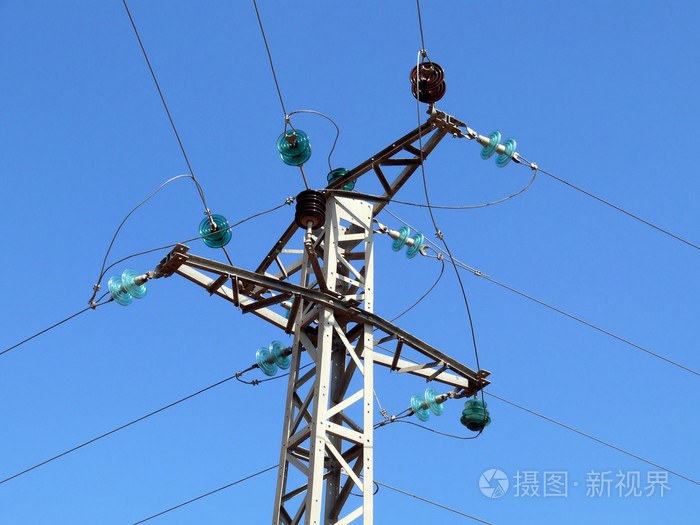insulator: (408, 62, 447, 104), (107, 266, 144, 307), (277, 128, 313, 168), (480, 132, 516, 166), (256, 341, 291, 375), (408, 390, 444, 421), (294, 190, 324, 227), (392, 225, 423, 259), (200, 215, 230, 247)
